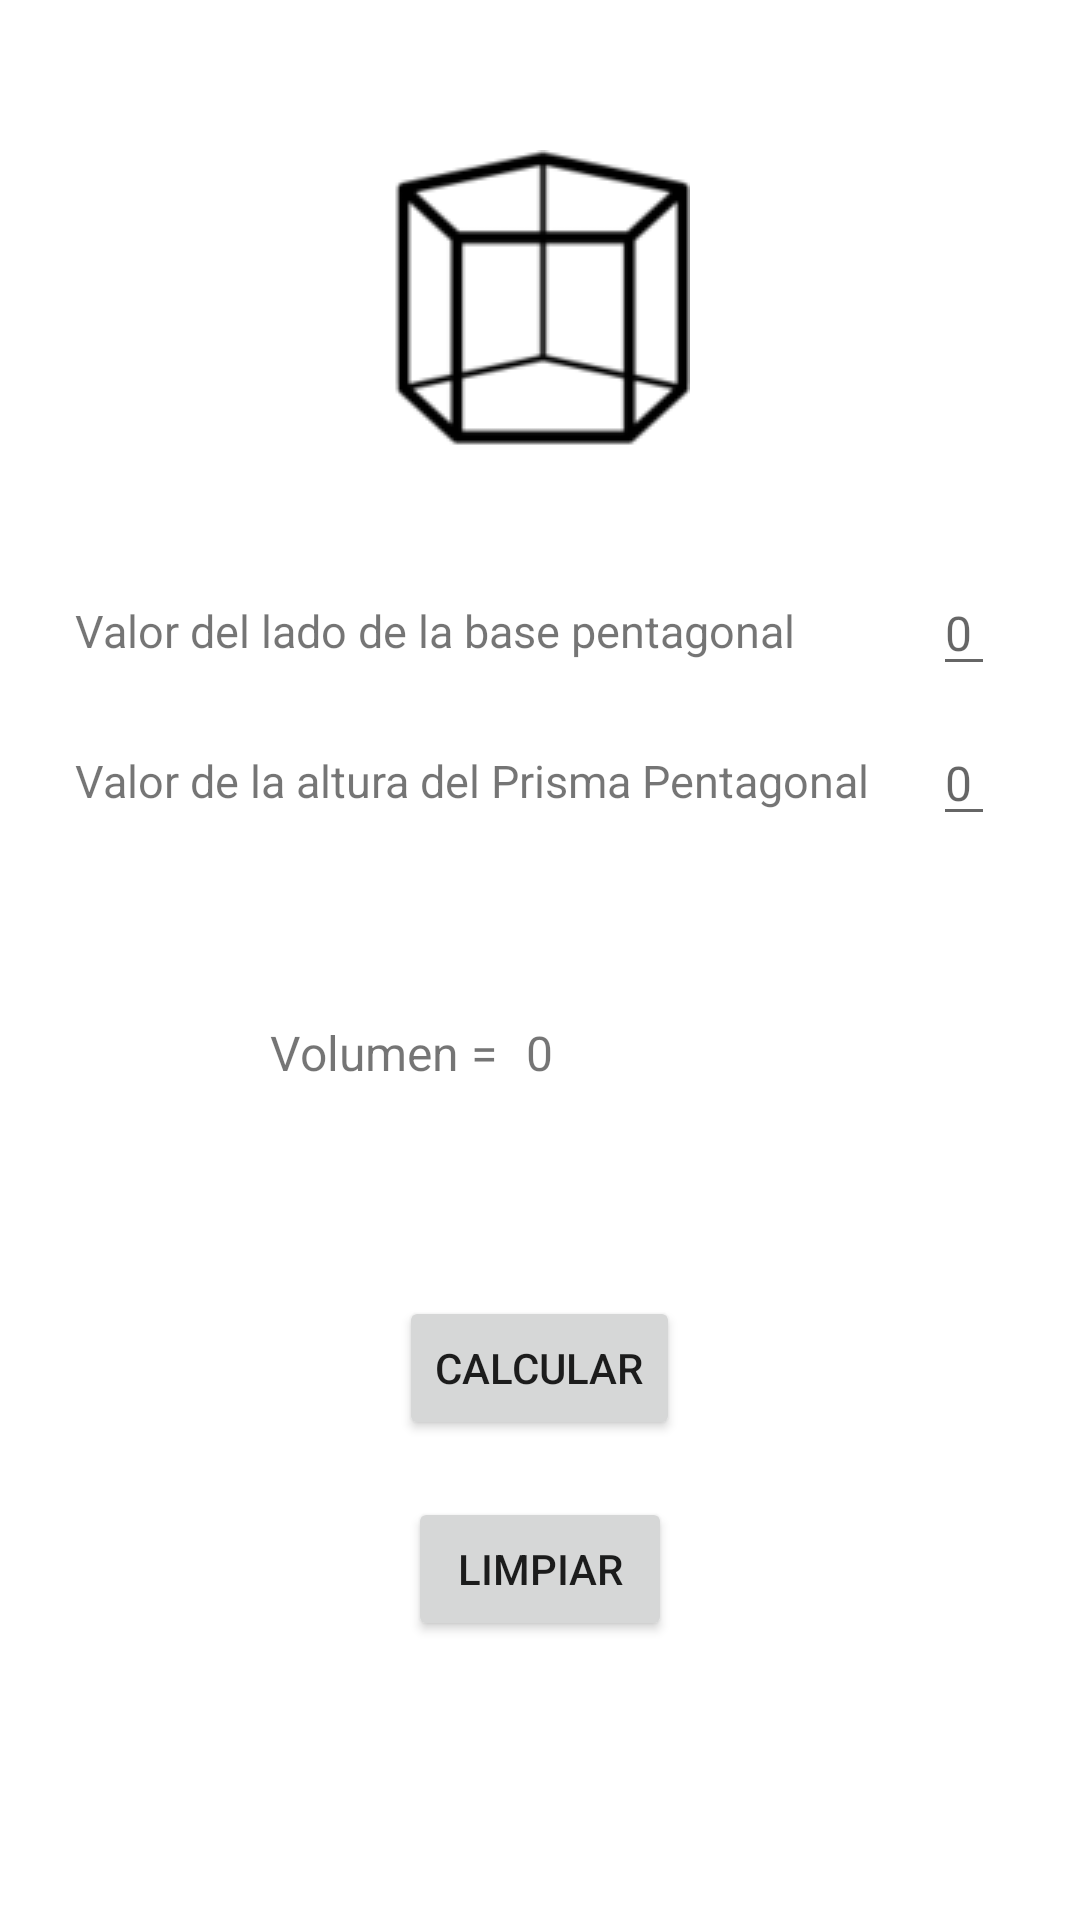

Where to tap for icons on this 1080 × 1920 app screen, as (x=x, y=y):
prismapentagonal: (x=542, y=297)
